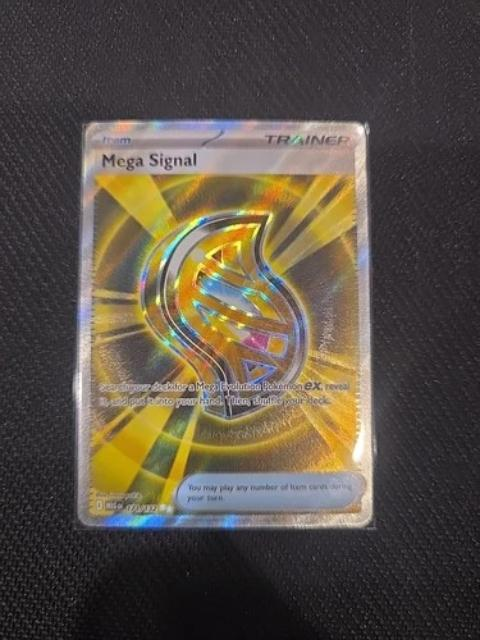Card: (72, 117, 378, 534)
Name: (99, 147, 208, 175)
